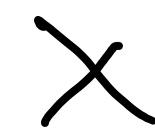mult: (34, 16, 155, 127)
